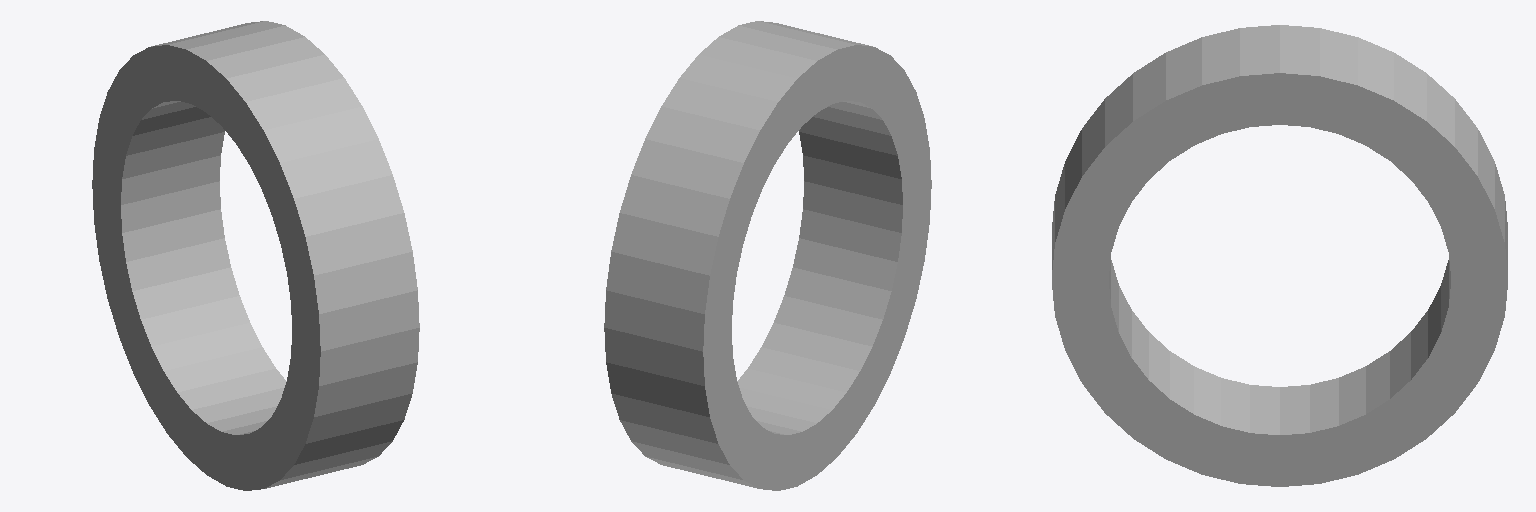
File: ring.obj
3 views of the same model, side by side, from view 1: azimuth 30°, elevation 25°; view 2: azimuth 150°, elevation 25°; view 3: azimuth 270°, elevation 25° (orthographic).
Visible parts, largest first — view 1: Tube__1; view 2: Tube__1; view 3: Tube__1.
Boxes of the visible parts, box(x1,y1,x2,y2) form: Tube__1: box(92, 21, 419, 490); Tube__1: box(604, 21, 931, 490); Tube__1: box(1052, 25, 1507, 486).
Bounding box in the file's own units: 25 × 100 × 100.